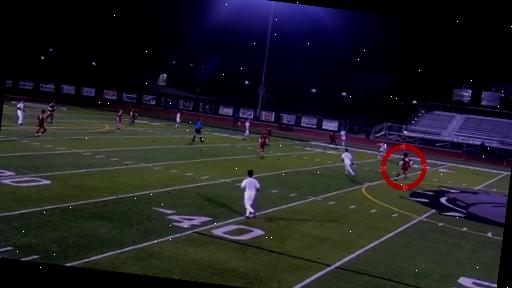highlight_overlay: (380, 136, 430, 196)
